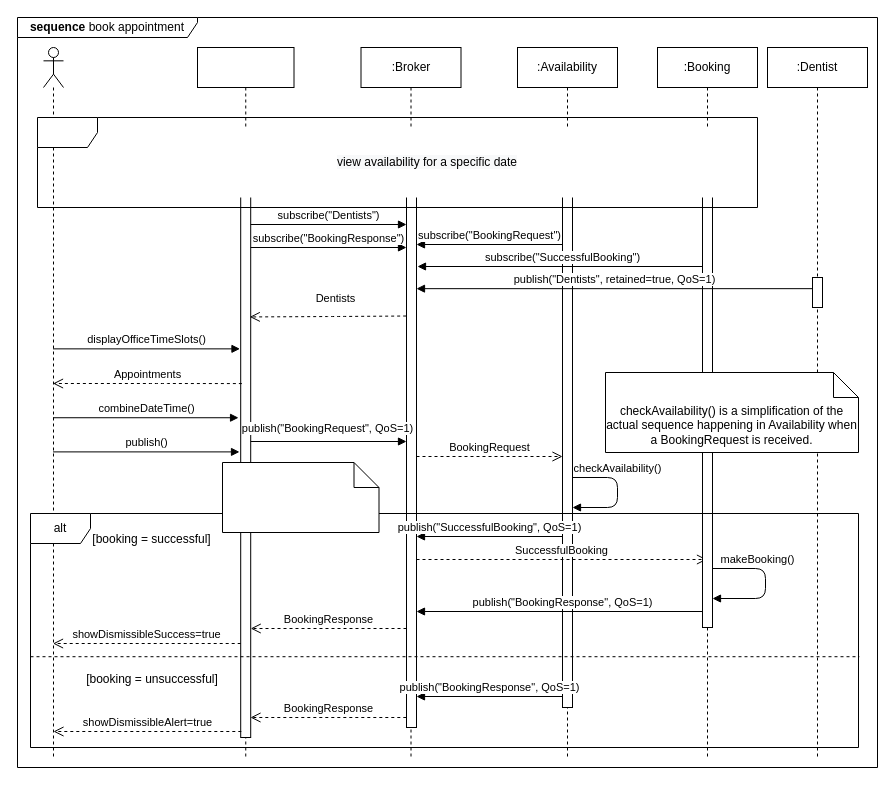
Image size: 895x785. Some labels were removed from this diagram. Each missing label, with the box of its shape:
:Frontend: (196, 46, 294, 758)
Ref: (36, 116, 758, 208)
User: (42, 46, 64, 758)
User provides their userid before publish() is called.: (222, 462, 379, 532)
